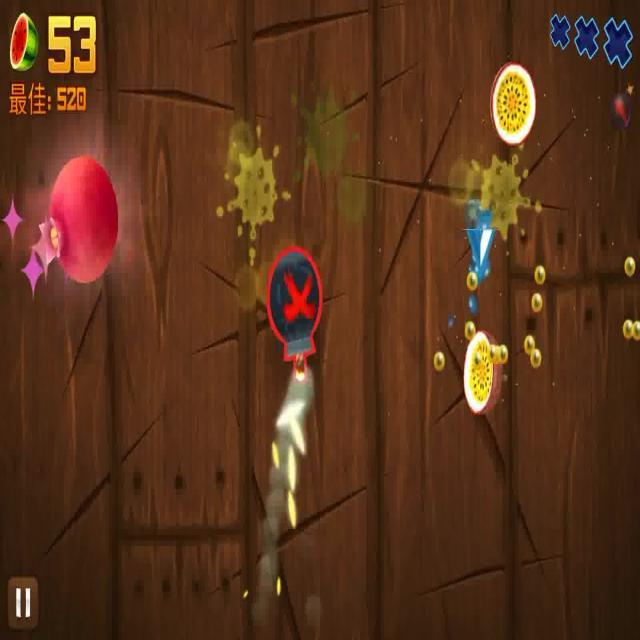bomb: (266, 250, 323, 396)
fruit: (50, 150, 119, 292), (461, 333, 503, 429), (490, 66, 538, 143)
